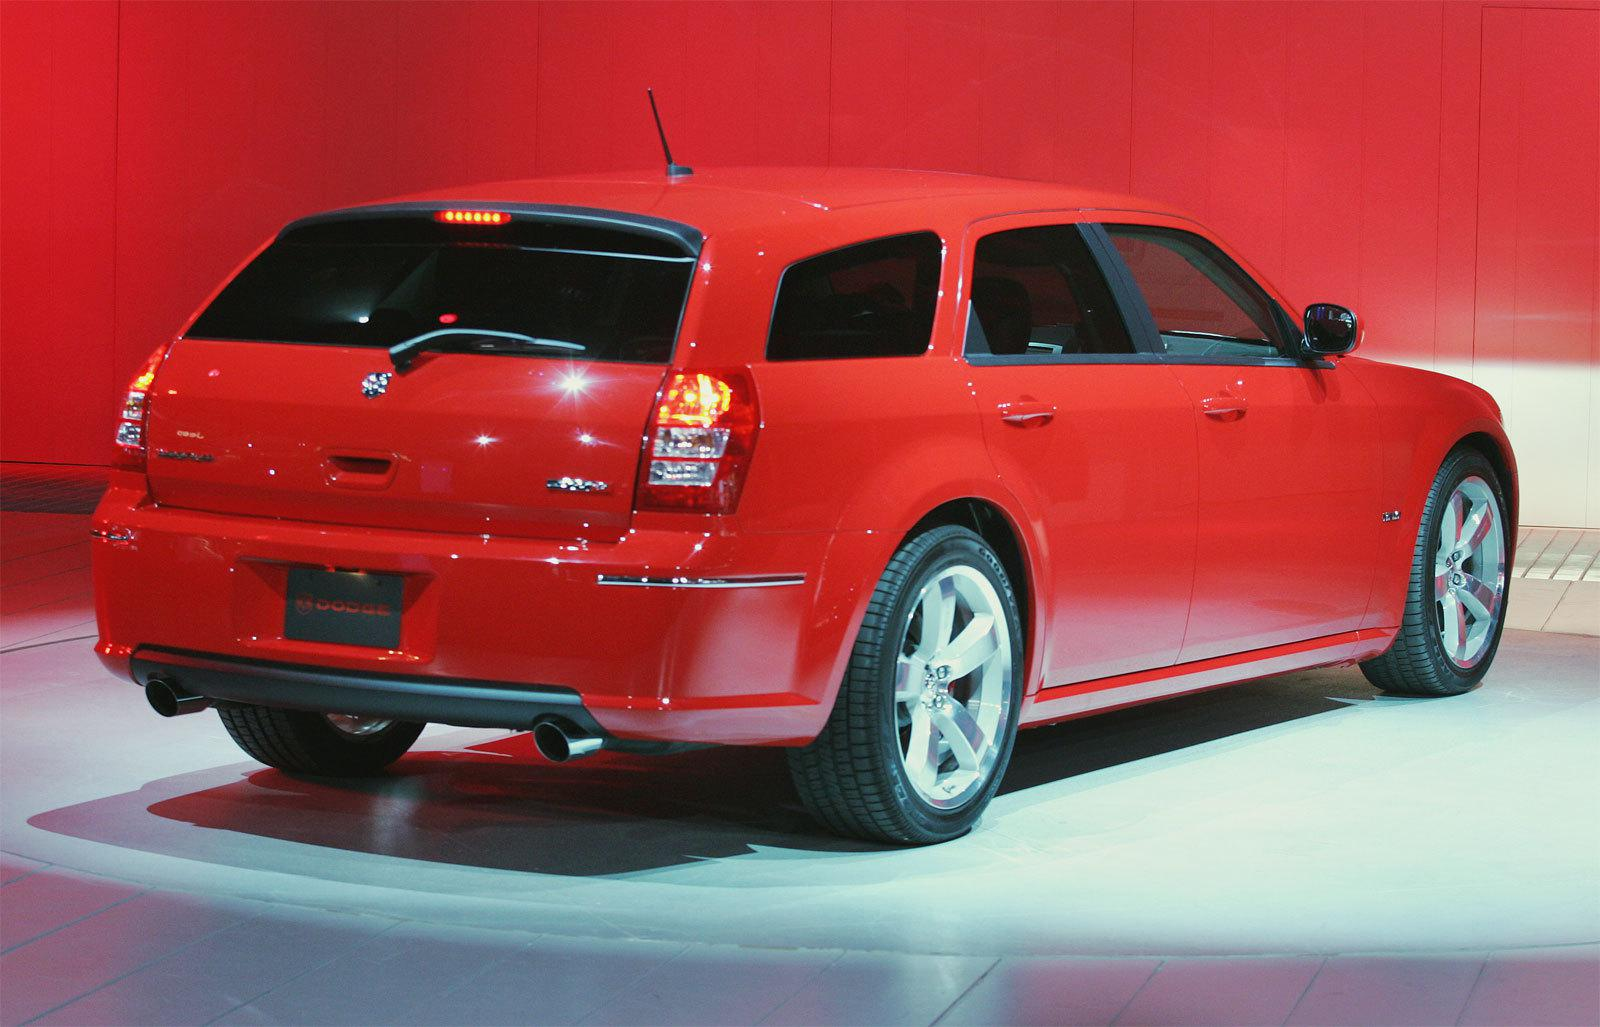Car: (54, 98, 1600, 877)
